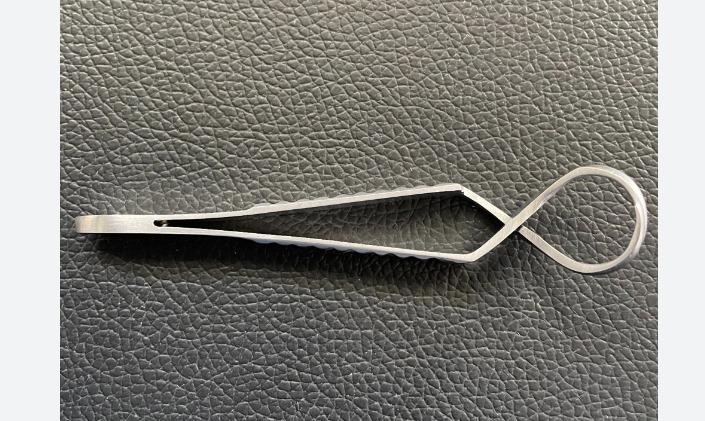Jones Towel Clamp: (65, 156, 650, 292)
